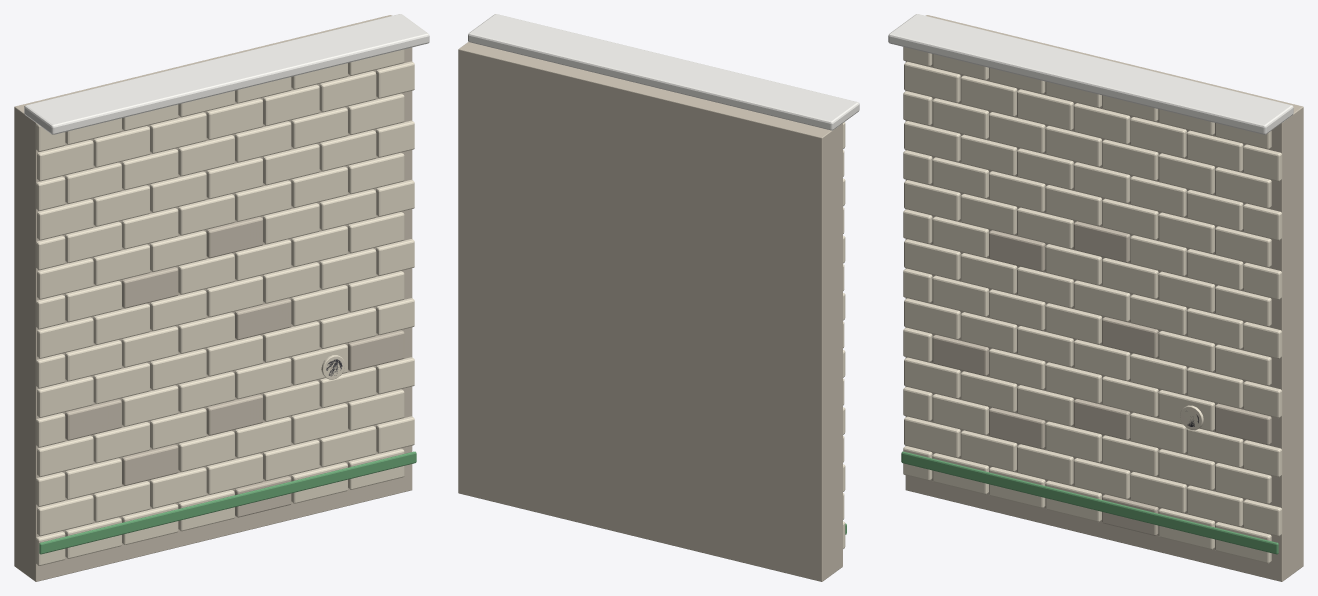
Rendered from sea_wall.fbx.
3 renders of one model, left to right at view 1: azimuth 30°, elevation 25°; view 2: azimuth 150°, elevation 25°; view 3: azimuth 330°, elevation 25°, orthographic. The views are drawn at different scales.
Parts seen in each view (by area): view 1: Visual; view 2: Visual; view 3: Visual.
Part boxes in pixels (<box>): Visual: <box>14,14,429,581</box>; Visual: <box>458,14,859,581</box>; Visual: <box>888,14,1303,581</box>.
Size of what is drawn, in the model's own units: 1204 by 1427 by 215.
